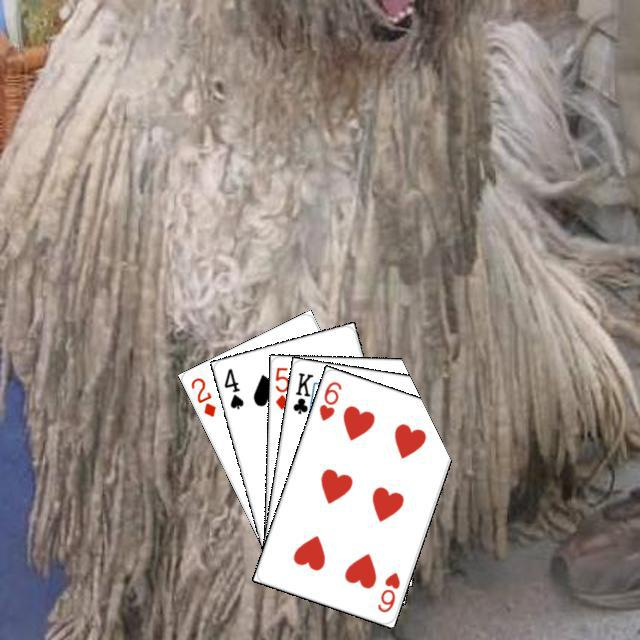2d: (186, 372, 218, 419)
4s: (219, 363, 245, 411)
5d: (270, 362, 291, 411)
6h: (372, 567, 402, 614), (314, 376, 343, 423)
Kc: (288, 367, 318, 422)
